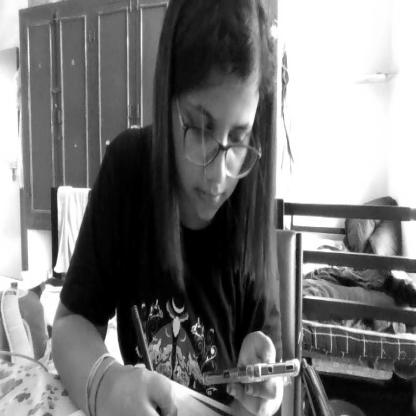Distracted: (167, 0, 273, 233)
